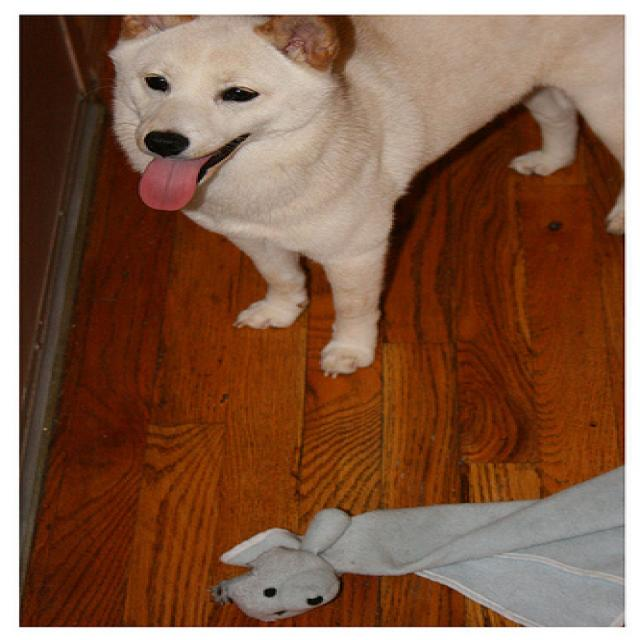dog-shiba_inu: (86, 3, 636, 384)
